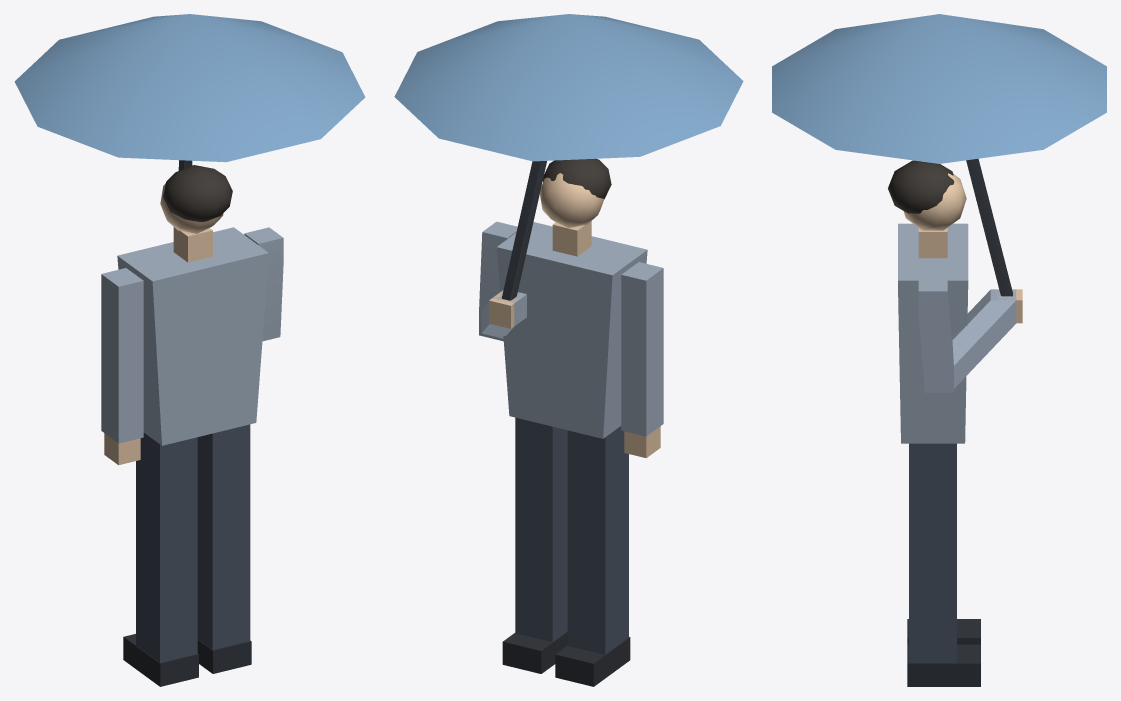
Rendered from ped_umbrella.glb.
3 views of the same model, side by side, from view 1: azimuth 30°, elevation 25°; view 2: azimuth 150°, elevation 25°; view 3: azimuth 270°, elevation 25° (orthographic).
Visible parts, largest first — view 1: Body, LegL, LegR; view 2: Body, LegL, LegR; view 3: Body, LegR, LegL.
Part boxes in pixels (x1=…): Body: x1=14, y1=14, x2=365, y2=465; LegL: x1=123, y1=433, x2=198, y2=686; LegR: x1=197, y1=424, x2=251, y2=673; Body: x1=394, y1=14, x2=743, y2=458; LegL: x1=555, y1=426, x2=630, y2=686; LegR: x1=502, y1=417, x2=567, y2=673; Body: x1=772, y1=14, x2=1106, y2=443; LegR: x1=907, y1=443, x2=980, y2=686; LegL: x1=907, y1=619, x2=980, y2=644.
Bounding box in the file's own units: 1.1 × 2.24 × 1.05.
